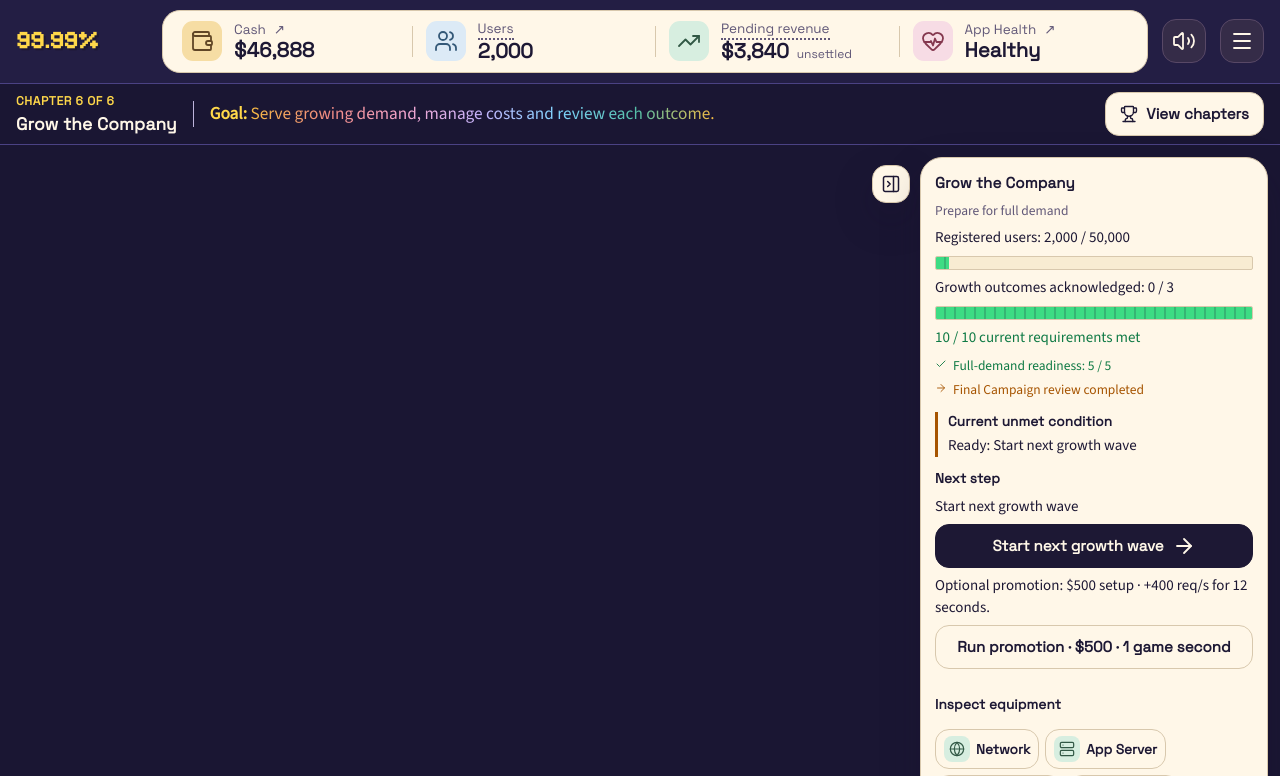
Test: requires explicit scheduling and explains promotion cost and temporary demand
Click the button "Start next growth wave": (1094,546) [935, 524, 1253, 568]
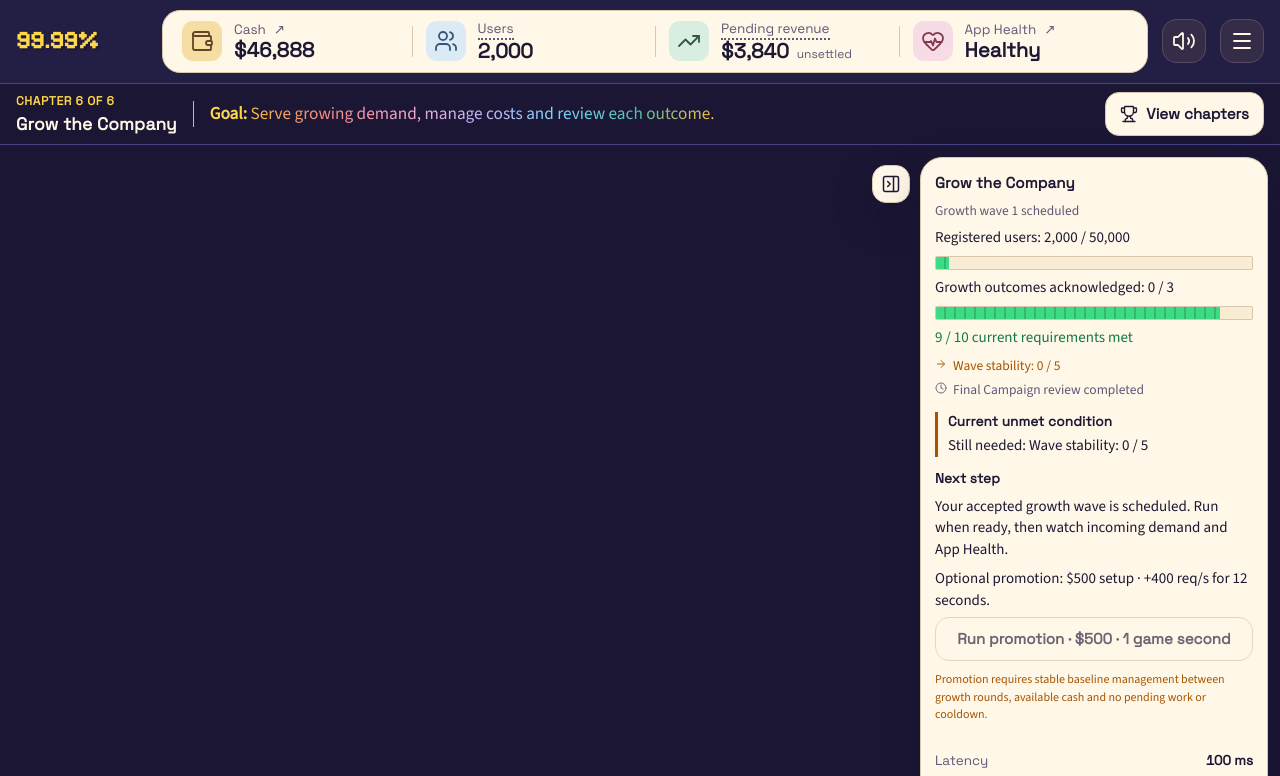
Now the button "Run promotion · $500 · 1 game second" is disabled, box [935, 617, 1253, 661]
